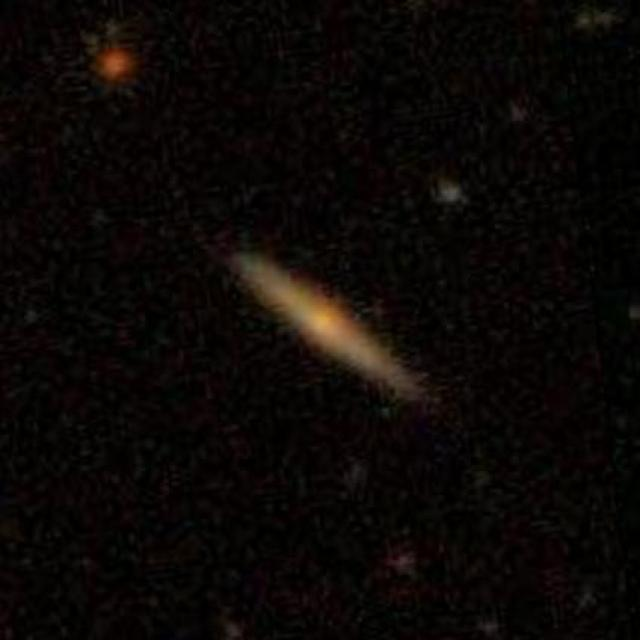galaxy: (219, 236, 435, 418), (91, 45, 144, 103), (422, 168, 472, 215), (378, 536, 424, 584)
